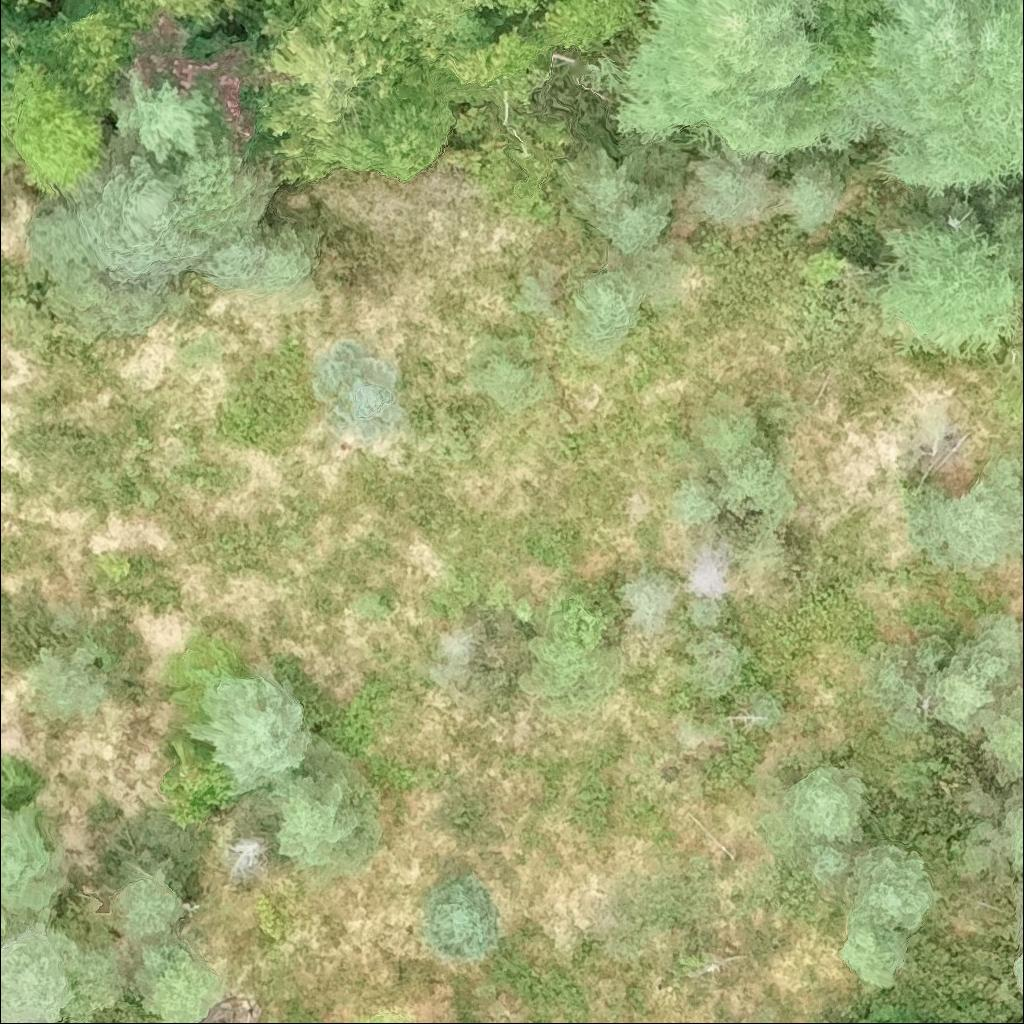crown: (588, 0, 852, 154), (817, 0, 1023, 189), (28, 141, 209, 331), (877, 217, 1014, 355), (265, 32, 405, 163), (302, 61, 453, 182), (183, 673, 307, 792), (266, 736, 377, 868), (516, 598, 622, 727), (563, 142, 681, 256), (841, 845, 934, 988), (476, 107, 585, 227), (12, 59, 104, 190), (703, 413, 797, 529), (178, 133, 277, 241), (40, 2, 133, 113), (191, 211, 323, 288), (931, 617, 1017, 730), (781, 767, 863, 883), (445, 22, 550, 111), (320, 339, 405, 445), (862, 635, 952, 733), (945, 452, 1023, 565), (113, 74, 209, 161), (0, 924, 72, 1023), (0, 805, 63, 918), (424, 881, 501, 972), (387, 0, 487, 70), (690, 151, 776, 231), (136, 946, 223, 1023), (265, 0, 410, 43), (534, 0, 650, 51), (33, 645, 104, 725), (571, 270, 644, 341), (809, 0, 881, 70), (109, 876, 188, 938), (777, 159, 845, 230), (468, 333, 534, 394), (978, 687, 1023, 776), (123, 0, 237, 32), (685, 540, 734, 600), (673, 475, 722, 527), (482, 0, 547, 19), (1007, 802, 1023, 872), (368, 1006, 417, 1023)
